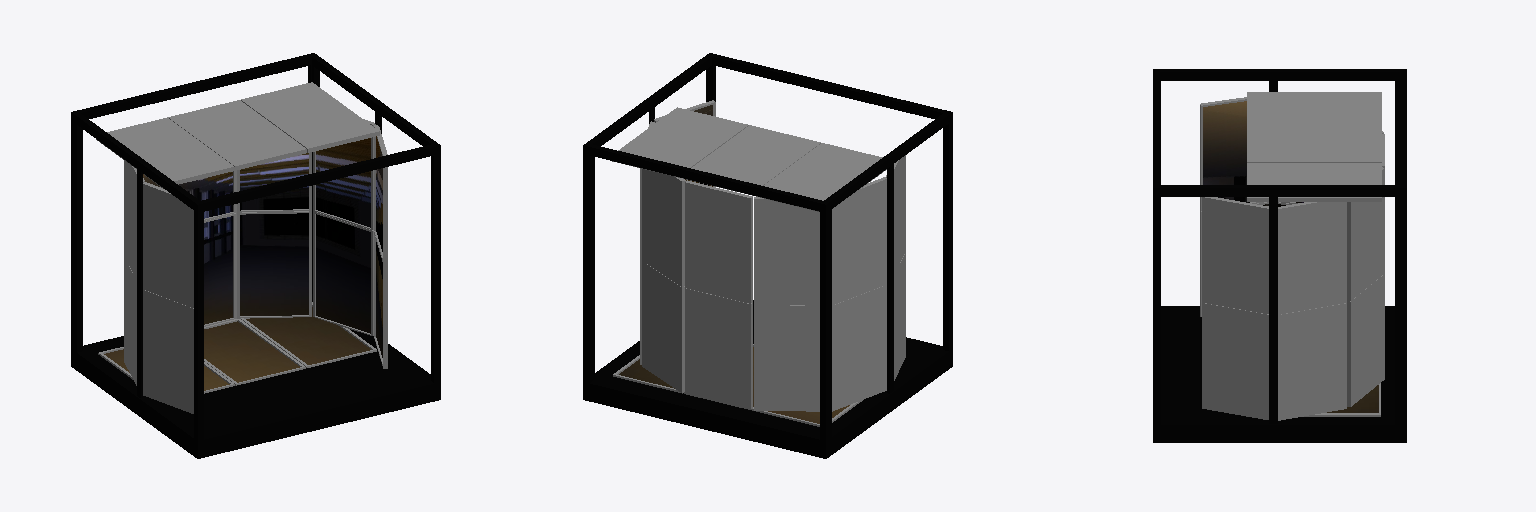
3 renders of one model, left to right at view 1: azimuth 30°, elevation 25°; view 2: azimuth 150°, elevation 25°; view 3: azimuth 270°, elevation 25°, orthographic.
Parts seen in each view (by area): view 1: Box015, Box002, Box026; view 2: Box015, Box002, Box026; view 3: Box015, Box002, Box027.
Part boxes in pixels (x1,y1,x2,y2): Box015: (96,82,387,413); Box002: (71,53,440,458); Box026: (137,169,142,397); Box015: (612,100,905,426); Box002: (583,53,952,458); Box026: (887,164,893,393); Box015: (1200,92,1384,420); Box002: (1153,69,1406,442); Box027: (1269,197,1277,423).
Size of the model in its own units: 2.62 by 2.62 by 2.36.
Materials: 3 (1 with a texture image).